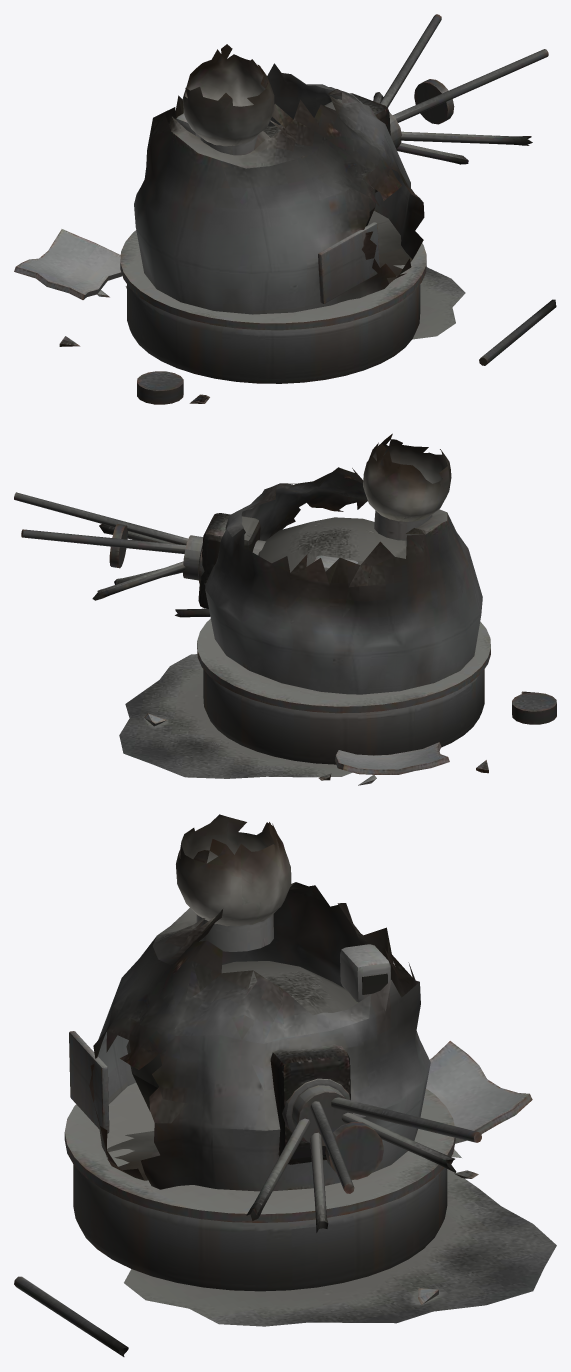
Rendered from fh_battle_e_lev_zsu_broken.glb.
3 renders of one model, top to bottom at view 1: azimuth 30°, elevation 25°; view 2: azimuth 150°, elevation 25°; view 3: azimuth 270°, elevation 25°, orthographic. The views are drawn at different scales.
Parts seen in each view (by area): view 1: zsu; view 2: zsu; view 3: zsu.
Part boxes in pixels (box(x1,y1,x2,y2)): zsu: box(14, 14, 556, 404); zsu: box(14, 433, 556, 785); zsu: box(14, 814, 556, 1356).
Size of the model in its own units: 0.8587 by 0.4819 by 0.643.
1 material, 1 textured.
